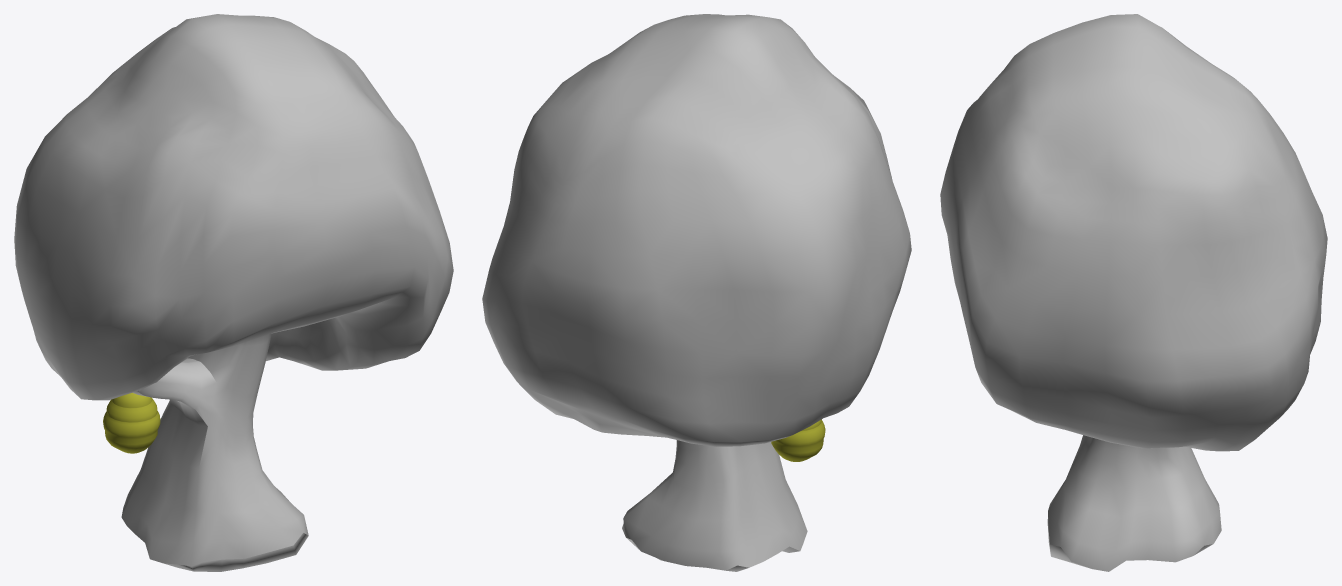
File: Tree_05.fbx
3 views of the same model, side by side, from view 1: azimuth 30°, elevation 25°; view 2: azimuth 150°, elevation 25°; view 3: azimuth 270°, elevation 25° (orthographic).
Parts seen in each view (by area): view 1: Leaves, Trunk_new, pCylinder1; view 2: Leaves, Trunk_new, pCylinder1; view 3: Leaves, Trunk_new.
Boxes of the visible parts, bbox=[...] form: Leaves: bbox=[14, 14, 453, 400]; Trunk_new: bbox=[121, 333, 308, 571]; pCylinder1: bbox=[103, 392, 160, 453]; Leaves: bbox=[482, 14, 911, 446]; Trunk_new: bbox=[622, 440, 807, 571]; pCylinder1: bbox=[771, 419, 825, 461]; Leaves: bbox=[940, 14, 1327, 451]; Trunk_new: bbox=[1047, 435, 1221, 571].
Size of the model in its own units: 8.46 by 11.74 by 7.94.
